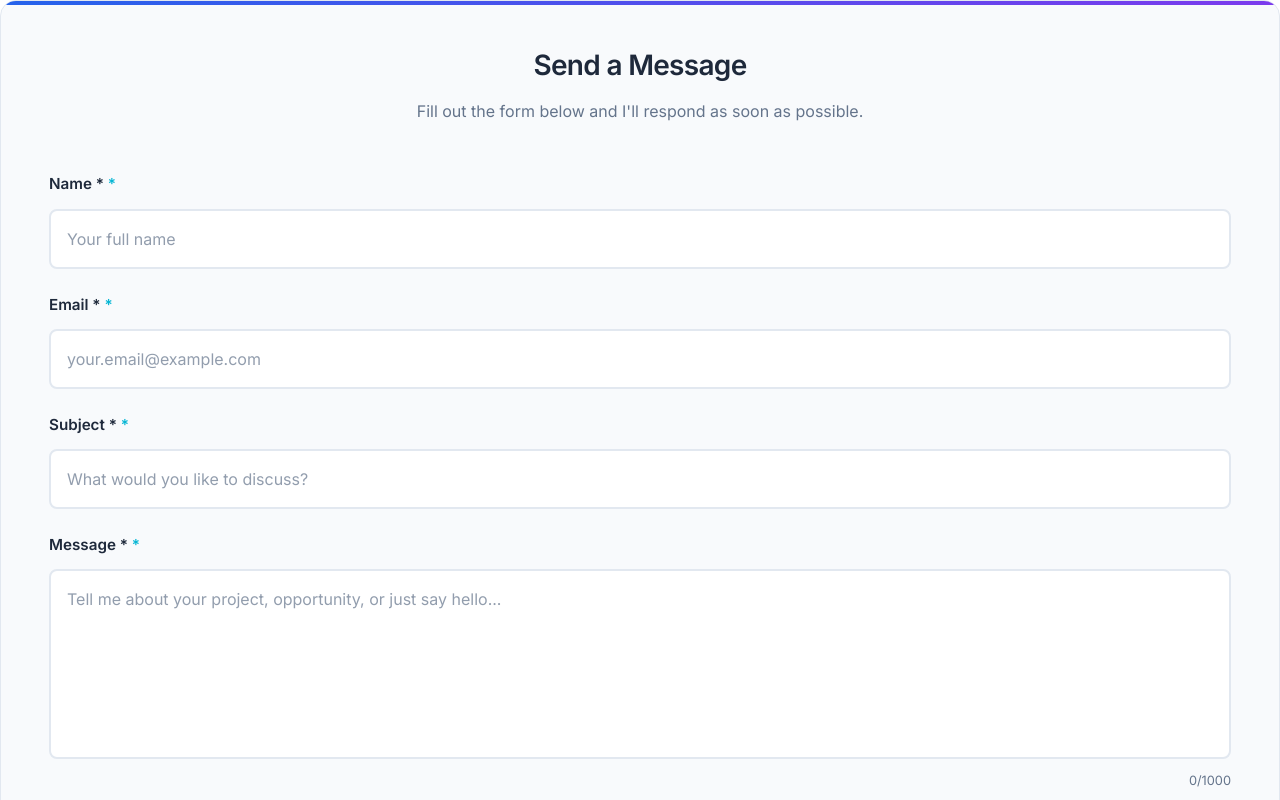
Test case: Accessibility Compliance Tests › Form Accessibility › should provide accessible error messages
# Enter invalid email and trigger validation
Type "invalid-email" into the field labelled "Email *". click: (640, 359)
box: [49,329,1231,389]
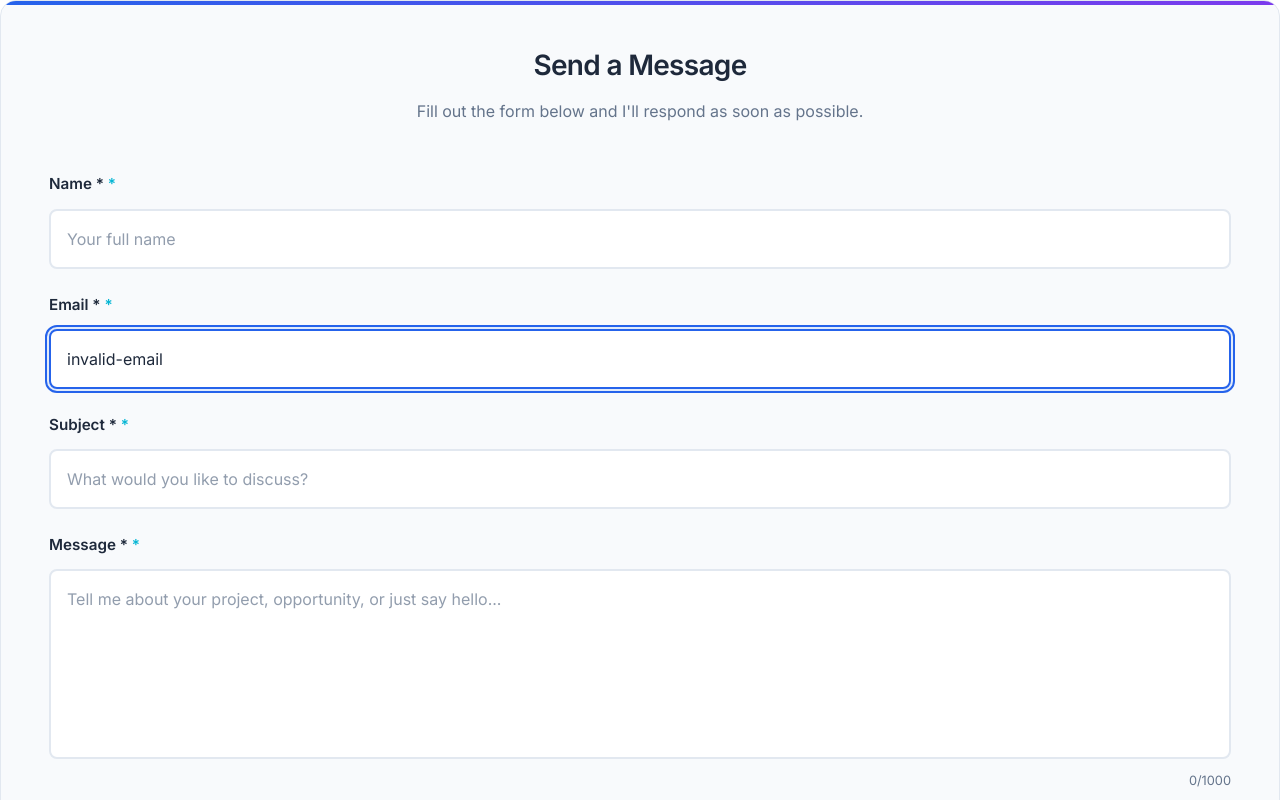
Press Tab
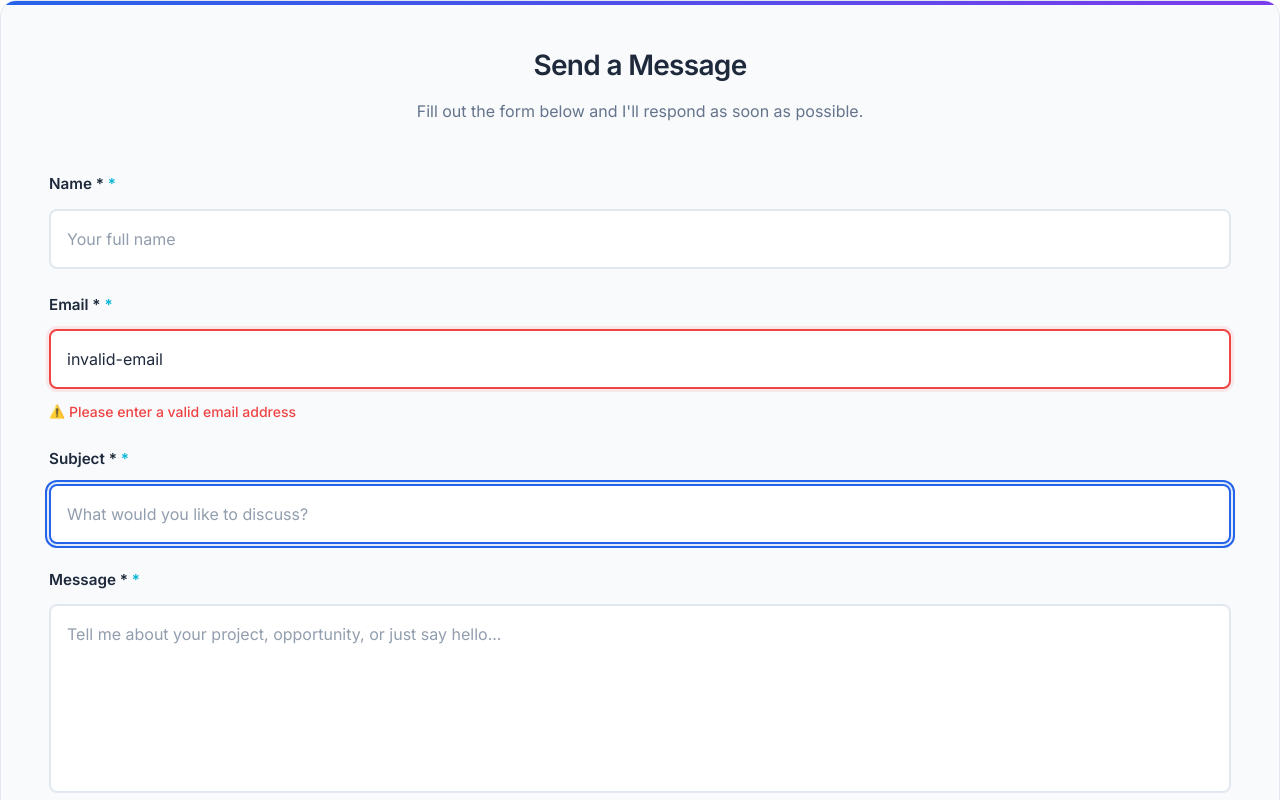
Expected: the message reads "Please enter a valid email address", [69,403,296,420]
